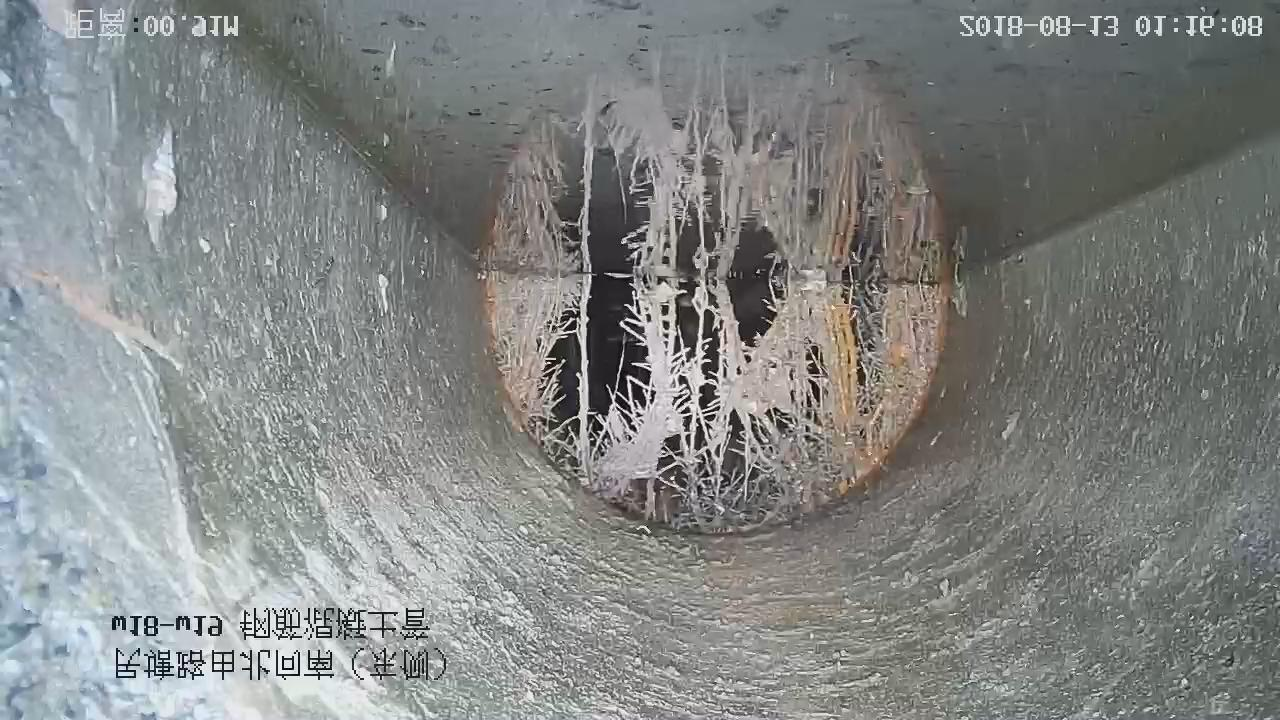SG: (482, 257, 943, 532)
